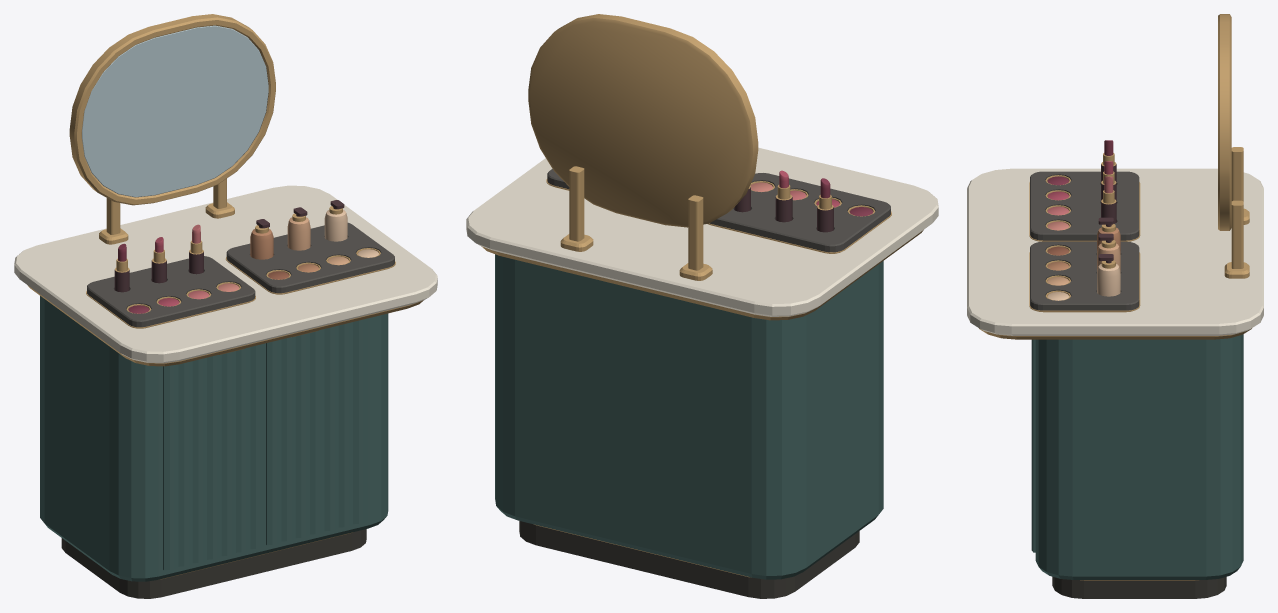
File: mall-cosmetics-tester-bar-lod1.glb
3 views of the same model, side by side, from view 1: azimuth 30°, elevation 25°; view 2: azimuth 150°, elevation 25°; view 3: azimuth 270°, elevation 25° (orthographic). The views are drawn at different scales.
Parts seen in each view (by area): view 1: Cabinet_and_counter_LOD1, Rear_mirror_LOD1, Mixed_tester_trays_LOD1; view 2: Cabinet_and_counter_LOD1, Rear_mirror_LOD1, Mixed_tester_trays_LOD1; view 3: Cabinet_and_counter_LOD1, Mixed_tester_trays_LOD1, Rear_mirror_LOD1.
Boxes of the visible parts, x1,y1,x2,y2 form: Cabinet_and_counter_LOD1: [14, 185, 437, 598]; Rear_mirror_LOD1: [69, 14, 275, 244]; Mixed_tester_trays_LOD1: [86, 200, 395, 328]; Cabinet_and_counter_LOD1: [466, 147, 938, 598]; Rear_mirror_LOD1: [528, 14, 758, 280]; Mixed_tester_trays_LOD1: [546, 169, 891, 253]; Cabinet_and_counter_LOD1: [967, 168, 1263, 598]; Mixed_tester_trays_LOD1: [1029, 140, 1140, 312]; Rear_mirror_LOD1: [1218, 14, 1249, 278].
Bounding box in the file's own units: 1 × 1.5 × 0.8.
